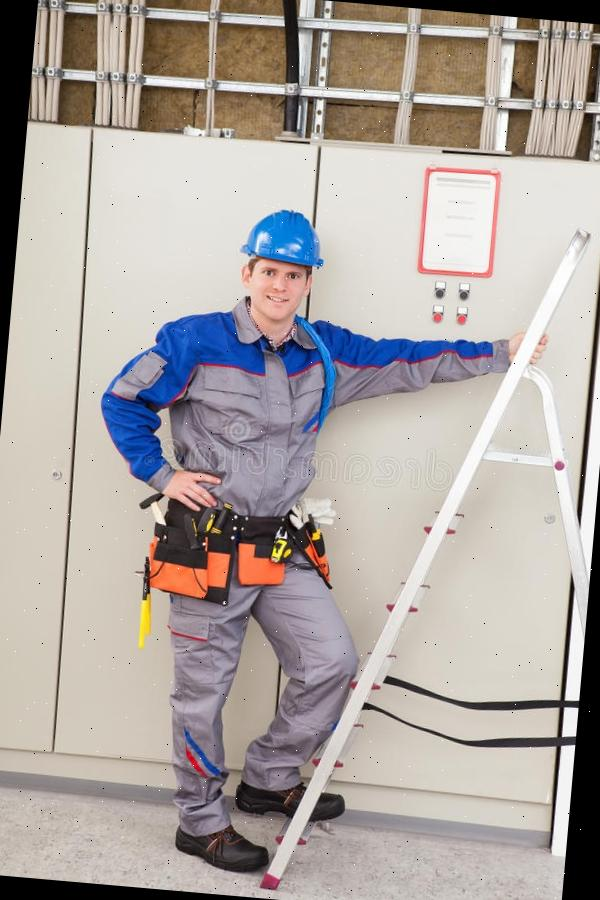helmet: (235, 205, 328, 277)
wear: (156, 311, 340, 533)
